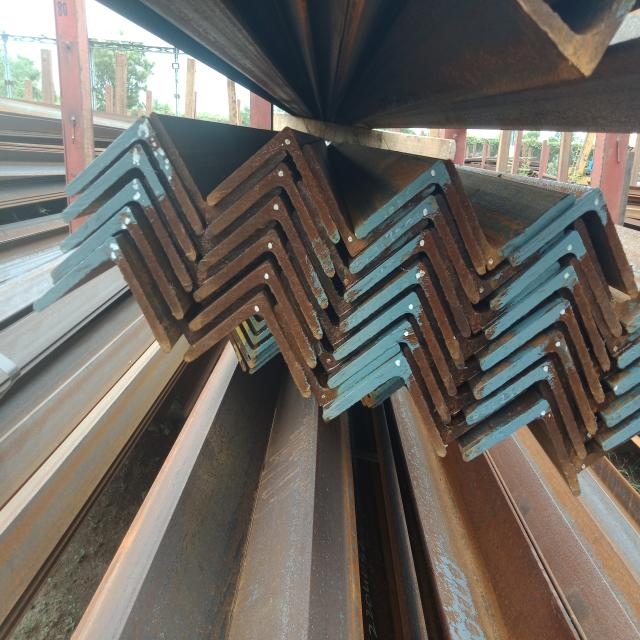metal-angles: (64, 114, 205, 236), (33, 236, 171, 353), (61, 143, 196, 260), (208, 126, 340, 243), (302, 144, 436, 257), (356, 159, 486, 275), (51, 206, 184, 319), (204, 162, 335, 276), (60, 178, 192, 291), (445, 158, 576, 271), (199, 196, 329, 308), (511, 187, 639, 299), (193, 230, 323, 340), (350, 195, 480, 304), (297, 181, 428, 289), (286, 240, 414, 350), (188, 260, 317, 368), (492, 231, 622, 337), (430, 228, 561, 333), (345, 229, 471, 338), (339, 261, 465, 370), (183, 291, 310, 397), (486, 265, 611, 371), (292, 211, 418, 316), (333, 292, 457, 396), (273, 305, 400, 406), (328, 321, 452, 424), (481, 300, 605, 403), (322, 356, 447, 458), (476, 332, 598, 434), (466, 360, 587, 459), (463, 399, 581, 496), (517, 0, 636, 79), (231, 328, 278, 369), (235, 325, 275, 359), (242, 320, 271, 345), (250, 315, 267, 331)
